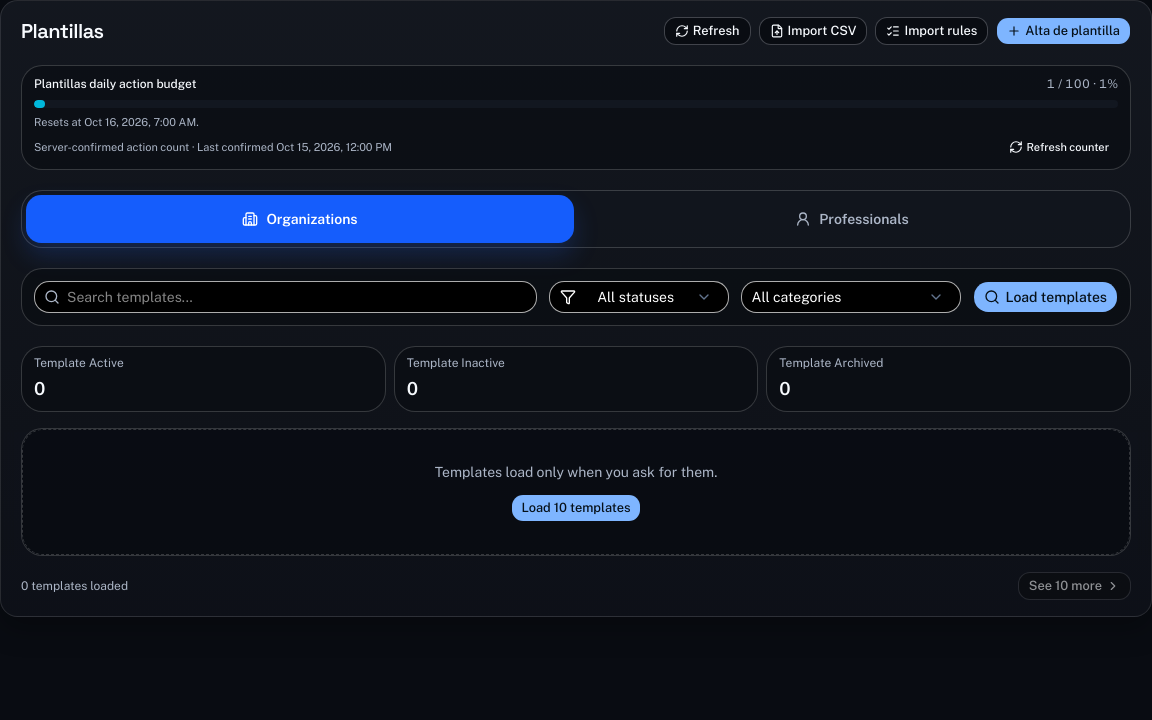
Test case: PartnershipCrmTemplateBrowser › loads only daily usage on mount and waits for an explicit filter apply
The width and height of the screenshot is (1152, 720).
Expected: the text "1 / 100 · 1%" is shown, [1047,76,1118,92]
Type "laboratory" into the field with placeholder "Search templates...". click: (285, 297)
box: [34,281,537,313]
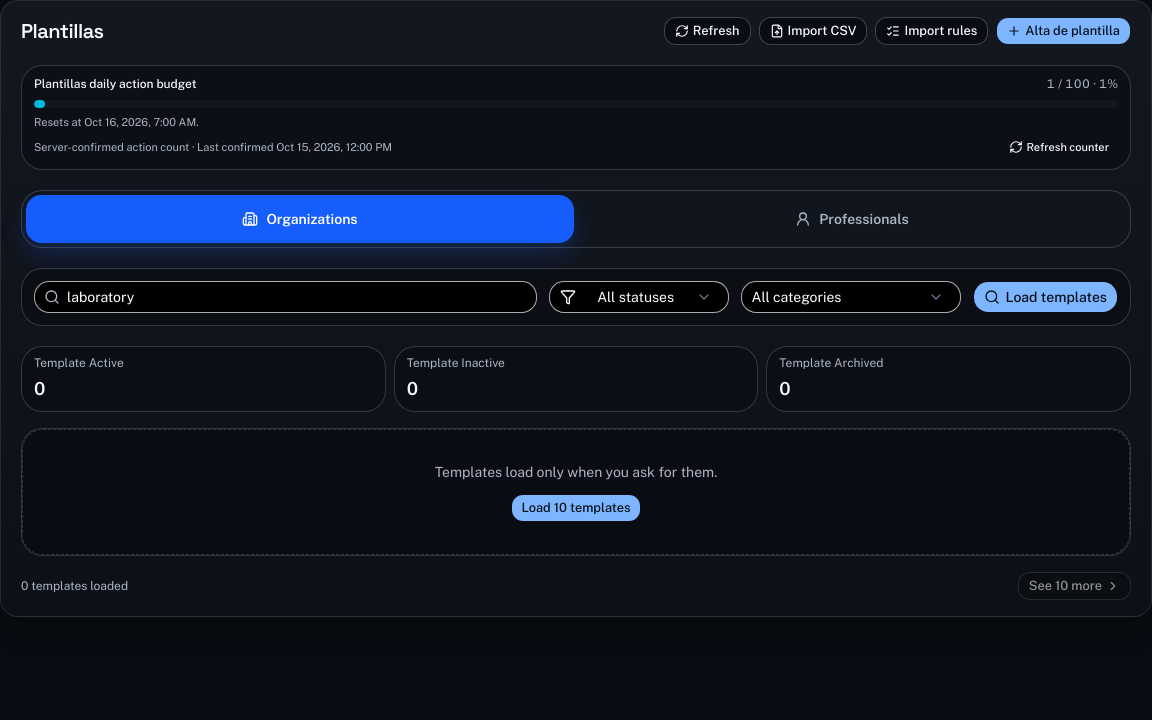
Click the button "Load templates". click: (1045, 297)
box: [973,281,1118,313]
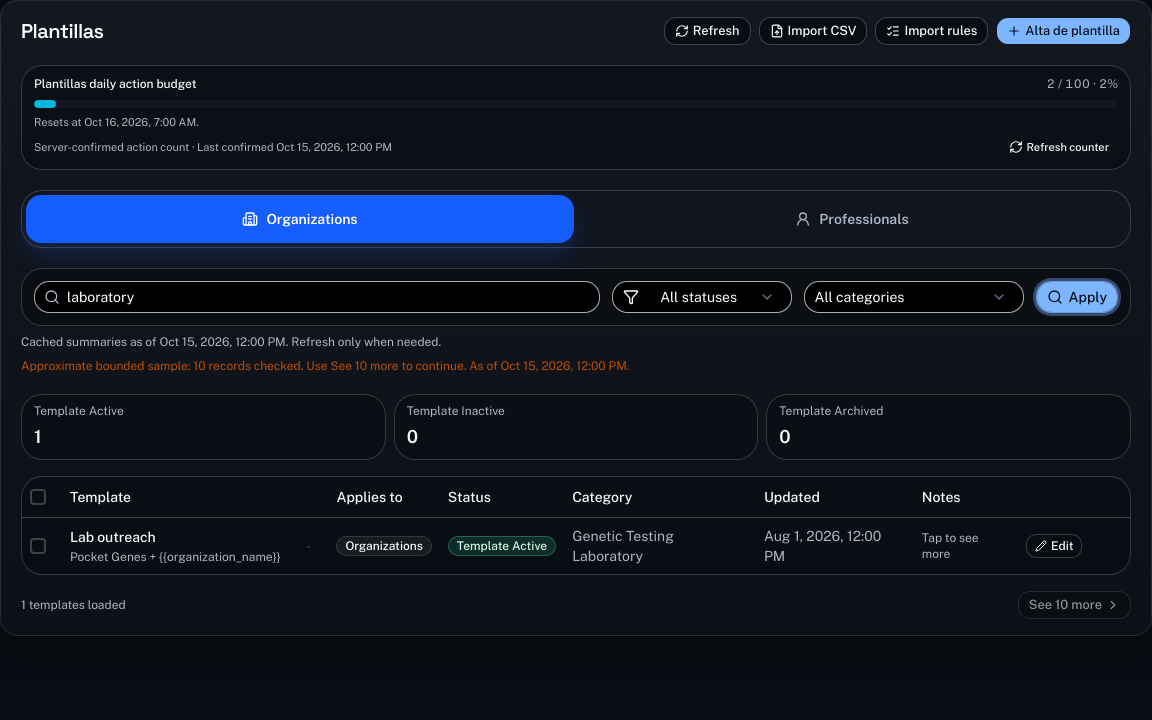
Result: the text "Lab outreach" is shown at [70,528,156,544]
Result: the message with test id "plantillas-bounded-result-note" shows "Approximate bounded sample: 10 records checked" at [21,359,630,373]
